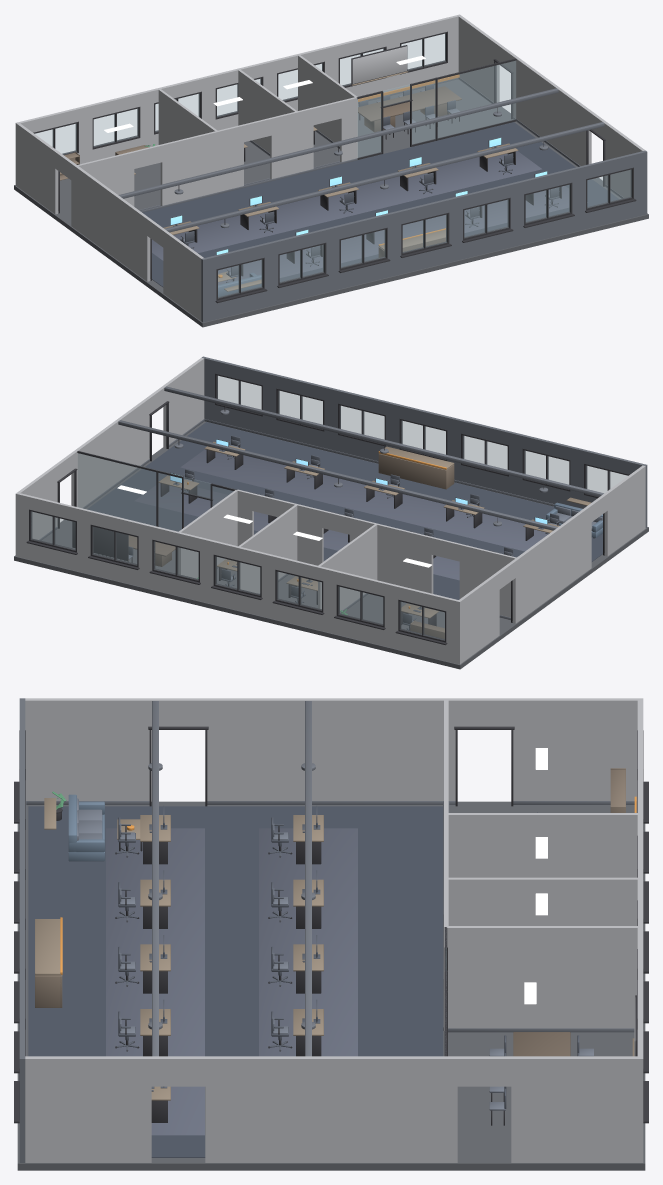
Rendered from office.glb.
3 views of the same model, one above another, from view 1: azimuth 30°, elevation 25°; view 2: azimuth 150°, elevation 25°; view 3: azimuth 270°, elevation 25° (orthographic). The views are drawn at different scales.
Visible parts, largest first — view 1: Floor_DevCarpet, Floor_Slab, DevFloor_Rug_0, Meeting_Glass_1, Wall_Left_1, Wall_Right_1, DevFloor_Rug_1, CorridorWall_CEO_1, Wall_Left_2, Wall_Left_0, Ceiling_Beam_1, Ceiling_Beam_0 (+66 smaller); view 2: Floor_DevCarpet, DevFloor_Rug_1, Floor_Slab, Meeting_Glass_1, Wall_Left_1, Wall_Right_1, CorridorWall_CEO_1, Wall_Left_0, DevFloor_Rug_0, Wall_Left_2, Ceiling_Beam_1, Ceiling_Beam_0 (+70 smaller); view 3: Floor_DevCarpet, Wall_Right_1, Wall_Left_1, Partition_V_2, DevFloor_Rug_1, DevFloor_Rug_0, Floor_Slab, Wall_Right_0, Wall_Right_2, Wall_Left_0, Wall_Left_2, Partition_V_0 (+14 smaller).
Boxes of the visible parts, x1,y1,x2,y2 form: Floor_DevCarpet: [142, 122, 618, 287]; Floor_Slab: [14, 79, 648, 327]; DevFloor_Rug_0: [152, 151, 541, 260]; Meeting_Glass_1: [412, 61, 515, 144]; Wall_Left_1: [71, 163, 150, 281]; Wall_Right_1: [512, 55, 591, 165]; DevFloor_Rug_1: [218, 186, 587, 284]; CorridorWall_CEO_1: [160, 131, 217, 205]; Wall_Left_2: [17, 123, 58, 214]; Wall_Left_0: [163, 230, 203, 320]; Ceiling_Beam_1: [164, 122, 604, 232]; Ceiling_Beam_0: [118, 88, 558, 198]; Floor_DevCarpet: [87, 422, 602, 599]; DevFloor_Rug_1: [180, 449, 548, 551]; Floor_Slab: [14, 421, 648, 669]; Meeting_Glass_1: [78, 453, 181, 531]; Wall_Left_1: [512, 505, 591, 623]; Wall_Right_1: [71, 397, 150, 507]; CorridorWall_CEO_1: [376, 523, 433, 593]; Wall_Left_0: [604, 465, 645, 556]; DevFloor_Rug_0: [135, 483, 459, 580]; Wall_Left_2: [459, 572, 499, 662]; Ceiling_Beam_1: [164, 386, 603, 496]; Ceiling_Beam_0: [118, 420, 557, 530]; Floor_DevCarpet: [28, 806, 443, 1157]; Wall_Right_1: [205, 1056, 457, 1162]; Wall_Left_1: [205, 698, 457, 800]; Partition_V_2: [446, 926, 637, 1028]; DevFloor_Rug_1: [106, 828, 204, 1135]; DevFloor_Rug_0: [259, 828, 357, 1056]; Floor_Slab: [17, 801, 645, 1170]; Wall_Right_0: [25, 1056, 151, 1162]; Wall_Right_2: [511, 1056, 637, 1162]; Wall_Left_0: [25, 698, 151, 800]; Wall_Left_2: [511, 698, 637, 800]; Partition_V_0: [446, 813, 637, 877].
Size of the model in its own units: 22.4 by 3.2 by 16.6.
